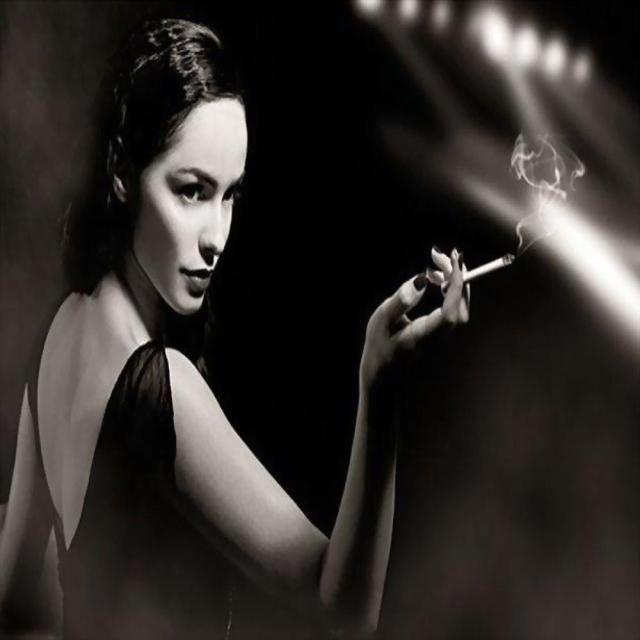cigarette: (444, 242, 555, 326)
